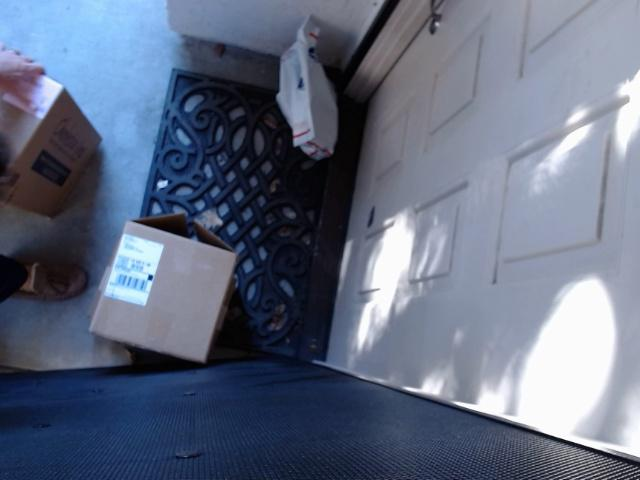box: (88, 213, 238, 371), (0, 75, 102, 217)
plastic_bag: (275, 14, 338, 160)
